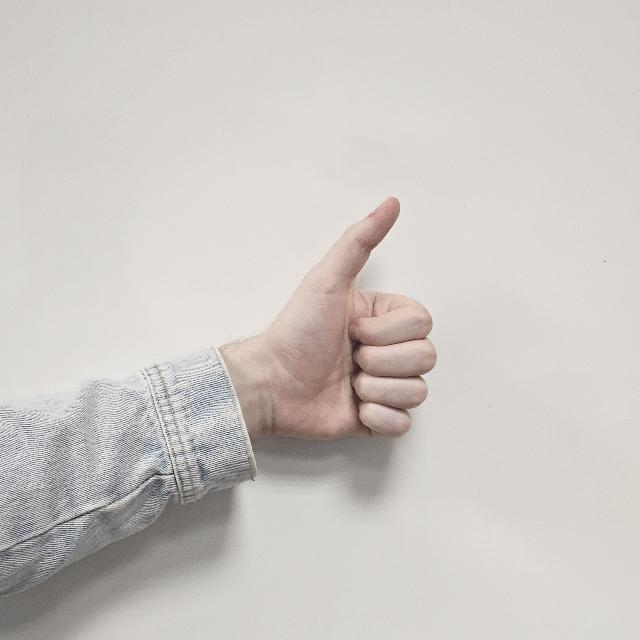Start: (222, 199, 438, 455)
